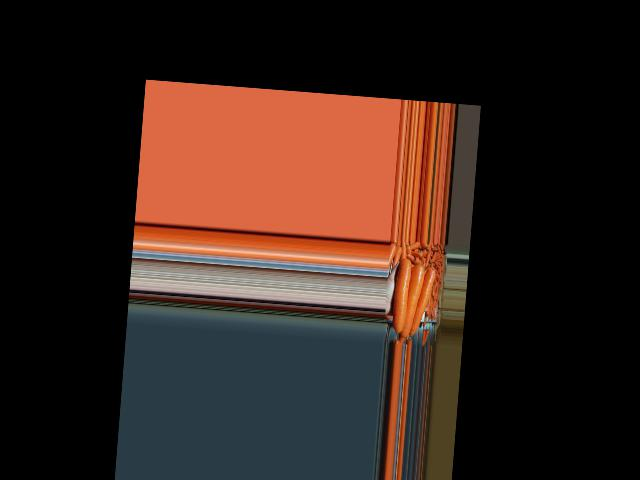carrot: (391, 257, 416, 336)
